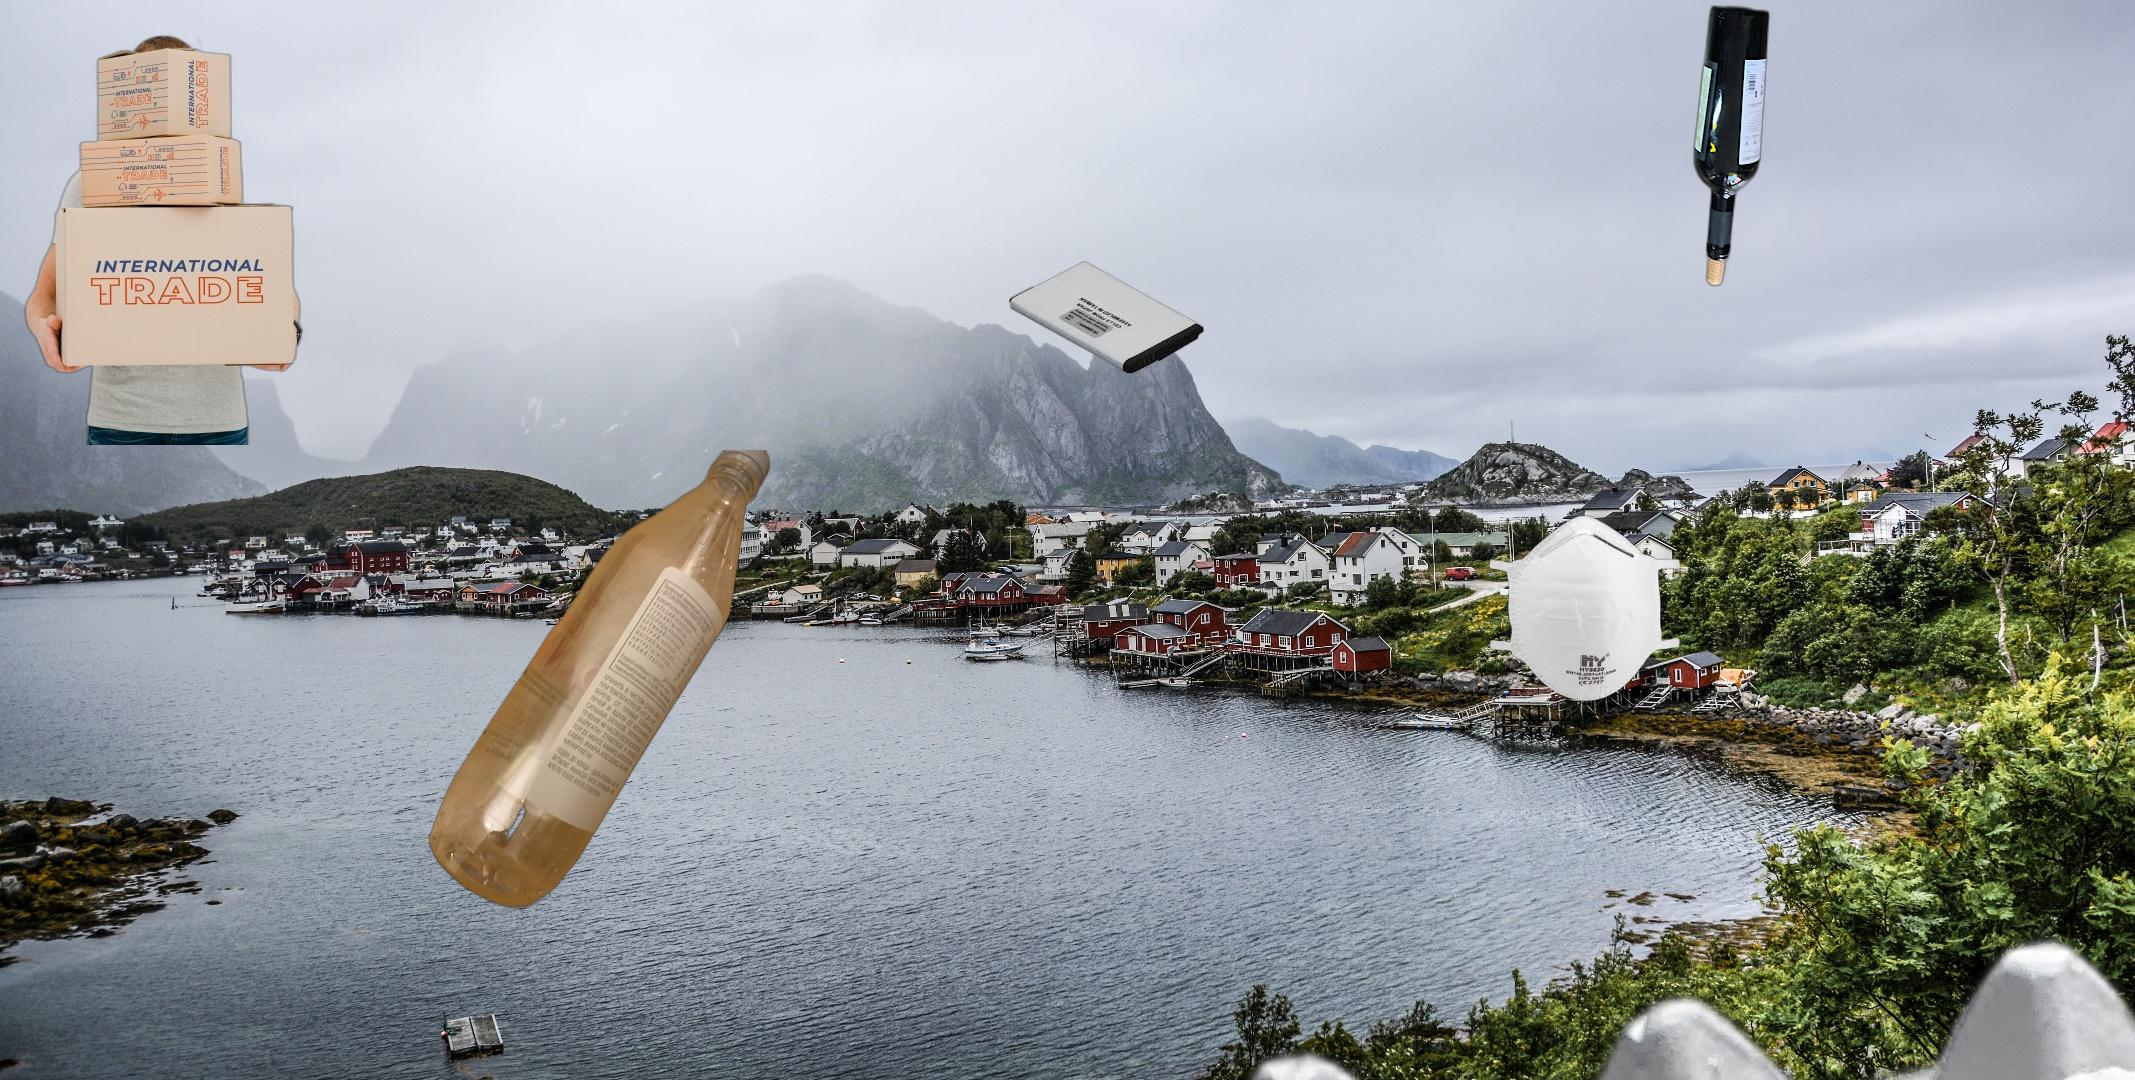battery: (1006, 259, 1207, 377)
glass: (1690, 1, 1774, 292)
plastic-bottles: (426, 450, 775, 913)
trash: (1488, 512, 1683, 704)
trashbox-cardboard: (548, 809, 2135, 1080), (19, 33, 309, 445)
